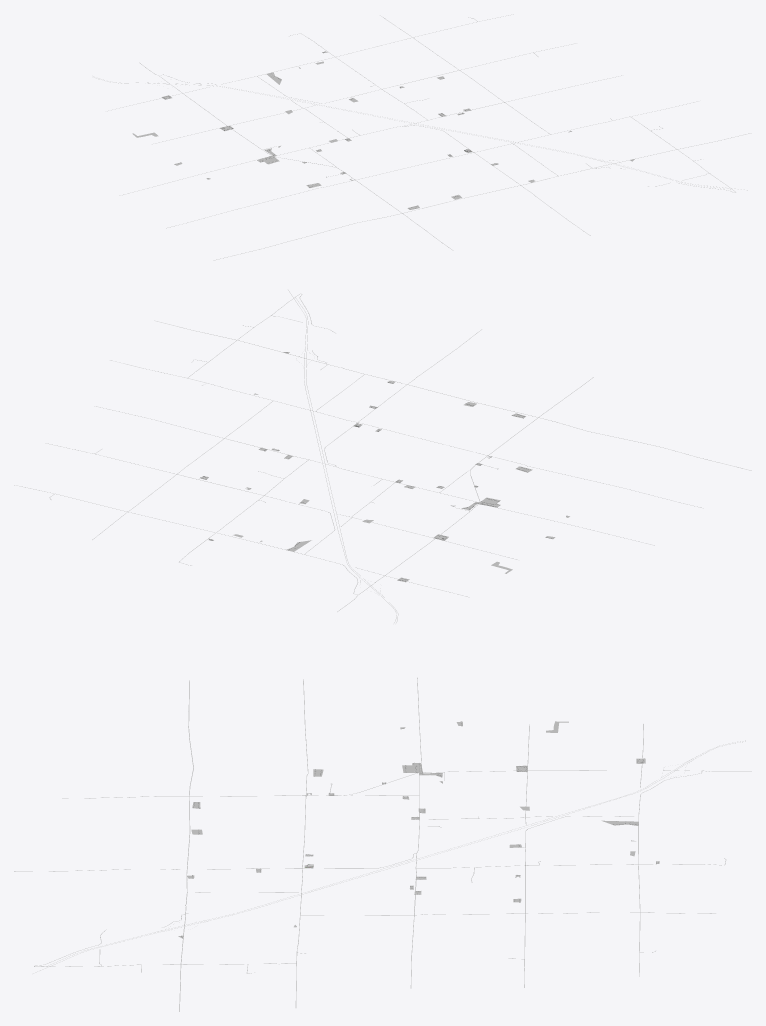
The model's file is mainSceneModels_0.fbx.
The picture shows the model from 3 angles, top to bottom: view 1: azimuth 30°, elevation 25°; view 2: azimuth 150°, elevation 25°; view 3: azimuth 270°, elevation 25°; orthographic projection. The views are drawn at different scales.
Parts seen in each view (by area): view 1: Street; view 2: Street, Pavement; view 3: Street, Pavement, Curbs.
Boxes of the visible parts, x1=… form: Street: x1=93, y1=15, x2=748, y2=260; Street: x1=19, y1=290, x2=750, y2=622; Pavement: x1=29, y1=294, x2=751, y2=610; Street: x1=16, y1=678, x2=745, y2=1011; Pavement: x1=30, y1=678, x2=725, y2=1011; Curbs: x1=14, y1=682, x2=750, y2=1009.
Size of the model in its own units: 15710 by 56.65 by 13666.
